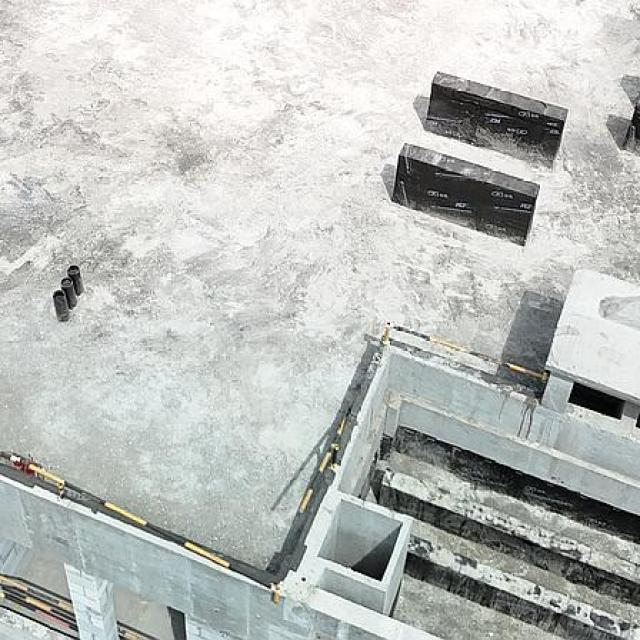edge_guardrail: (0, 450, 280, 606), (384, 322, 552, 384), (297, 401, 354, 515), (0, 574, 77, 633), (116, 623, 151, 640)
